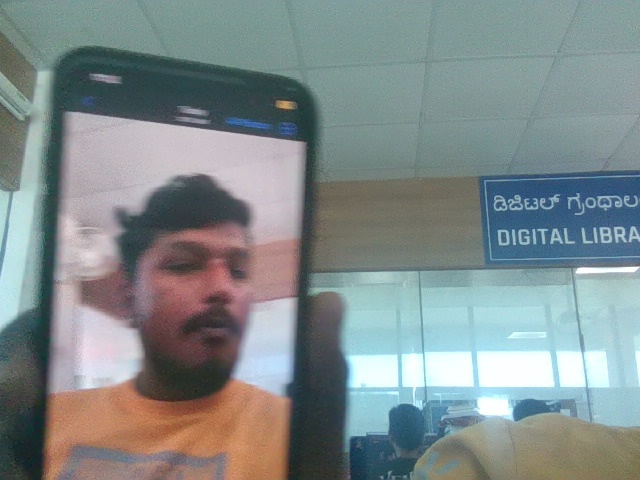fake: (112, 150, 283, 393)
